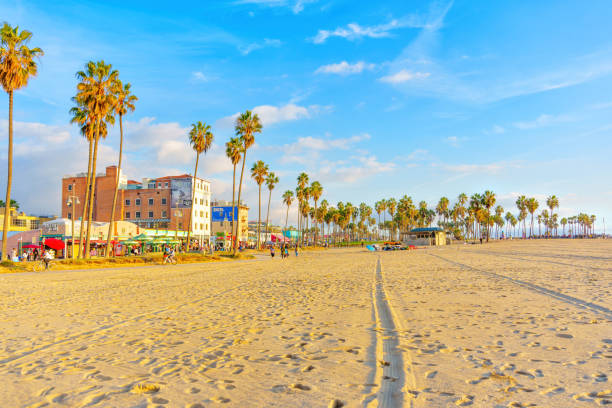vehicle_track: (0, 281, 252, 364), (429, 253, 611, 319), (363, 257, 405, 407), (470, 250, 611, 270), (59, 281, 133, 302)
